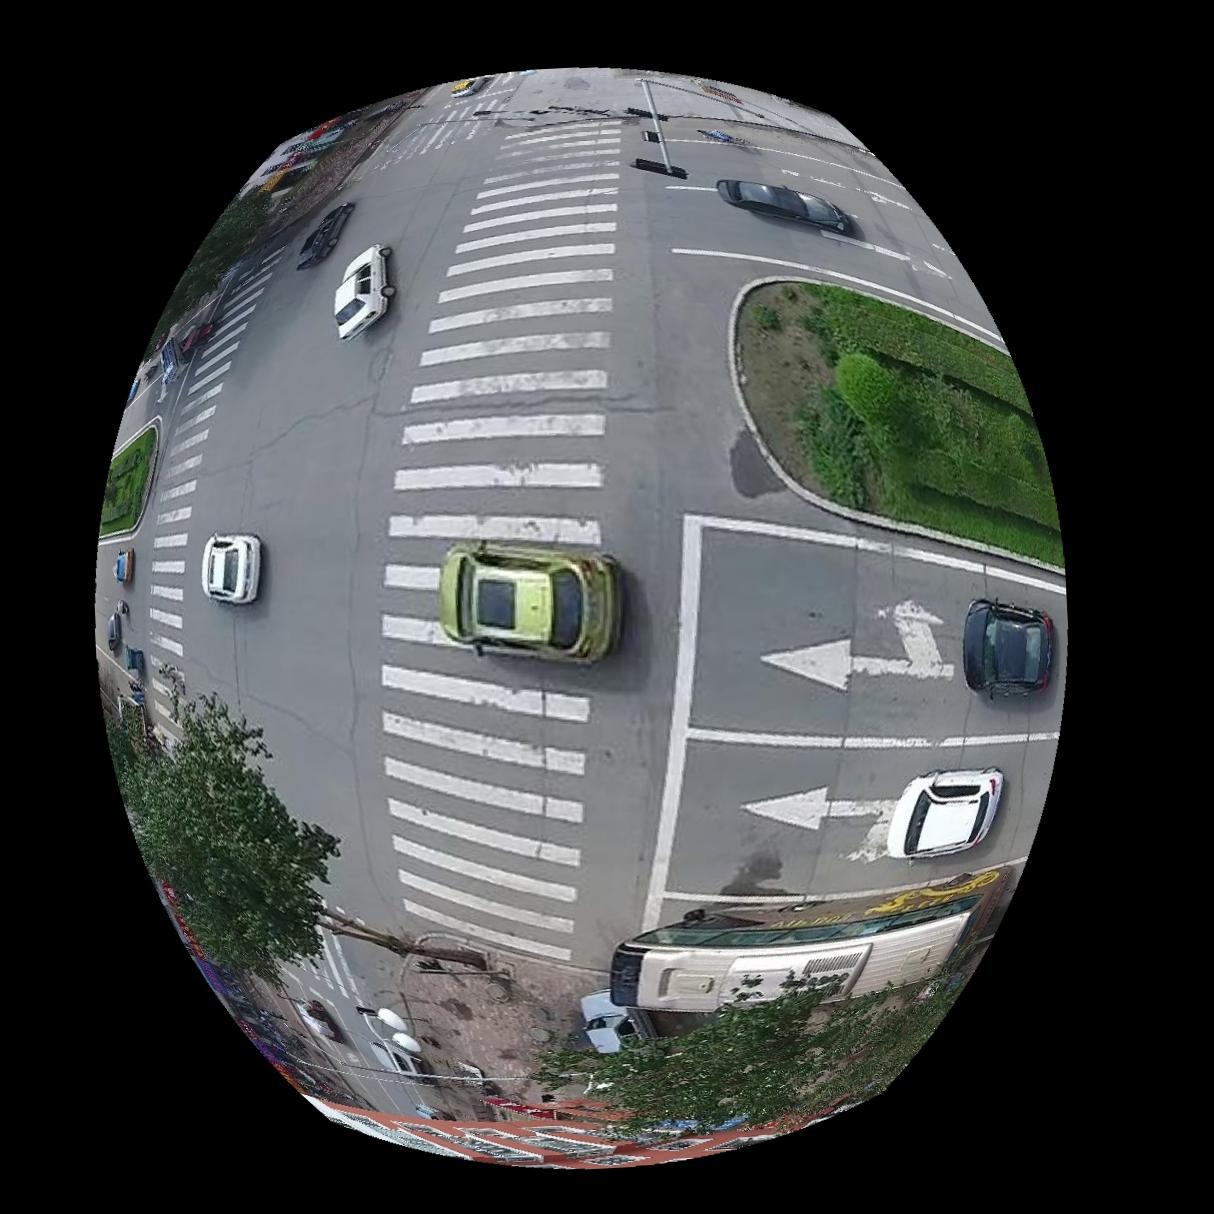cars: (610, 870, 1007, 1013), (438, 539, 620, 660), (888, 767, 1005, 858), (966, 597, 1054, 699), (334, 241, 394, 338), (200, 533, 260, 601), (296, 200, 354, 268)
trees: (107, 697, 486, 985), (735, 281, 1065, 565)
